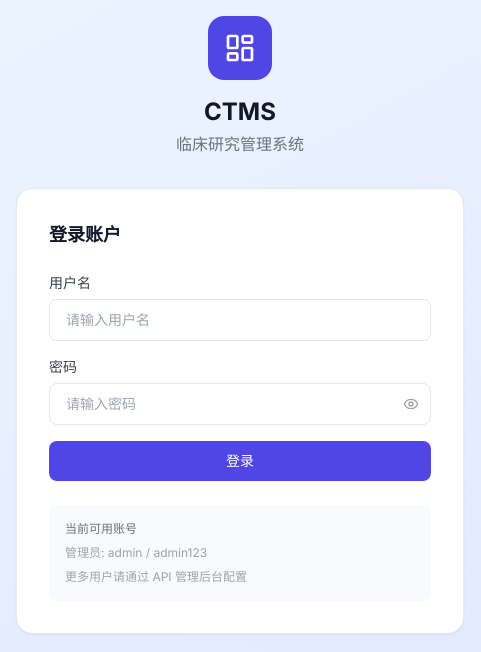
Test: LoginPage › shows disabled button while loading
The image size is (481, 652).
Type "admin" into the field with placeholder "请输入用户名" at (240,320), box x1=49 y1=299 x2=431 y2=341
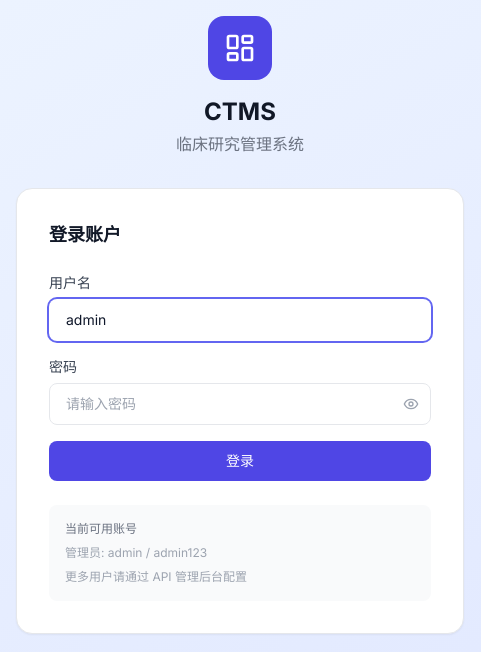
Type "admin123" into the password field with placeholder "请输入密码" at (240,404), box x1=49 y1=383 x2=431 y2=425
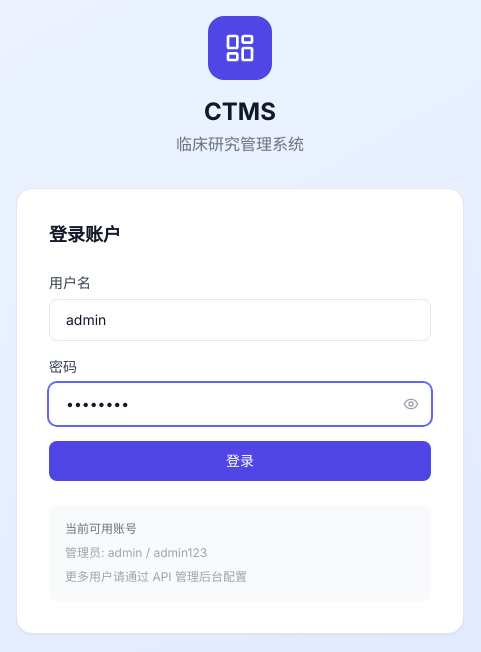
Click the button "登录" at (240,461), box x1=49 y1=441 x2=431 y2=481
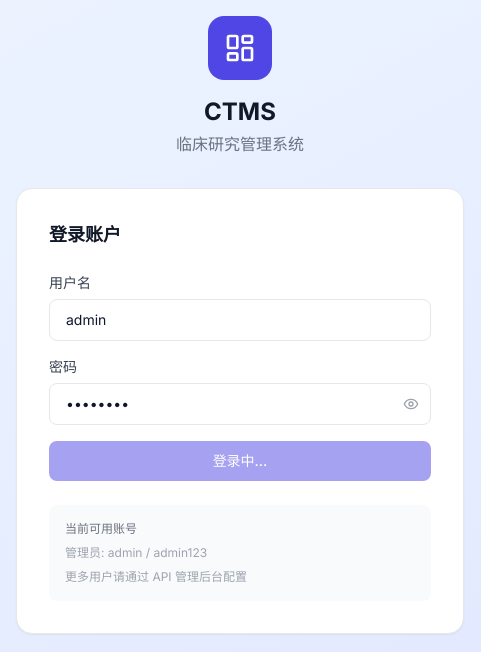
Now the button "登录中..." is disabled, box x1=49 y1=441 x2=431 y2=481
